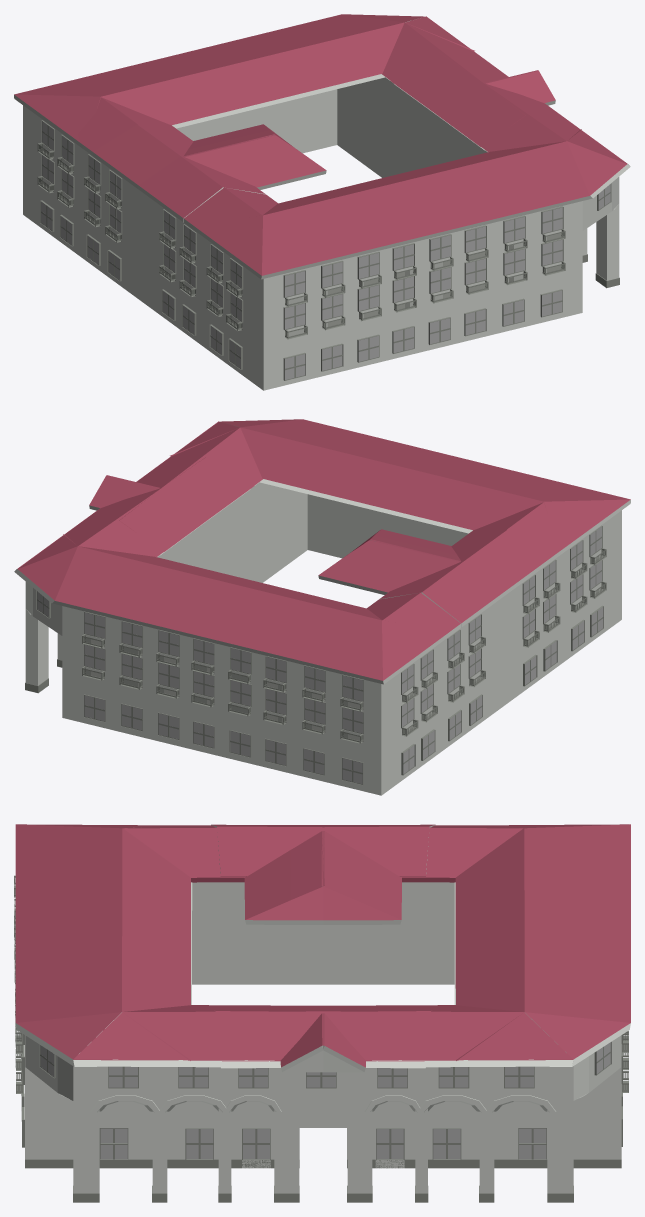
The model's file is cthm.fbx.
3 views of the same model, one above another, from view 1: azimuth 30°, elevation 25°; view 2: azimuth 150°, elevation 25°; view 3: azimuth 270°, elevation 25° (orthographic). The views are drawn at different scales.
Visible parts, largest first — view 1: Cube, Cube.063, Cube.058, Cube.061, Cube.064, Cube.062, Cube.057, Cube.059, Cube.060, Cube.066, Cube.071, Cube.072 (+13 smaller); view 2: Cube, Cube.049, Cube.050, Cube.047, Cube.046, Cube.042, Cube.043, Cube.045, Cube.041, Cube.044, Cube.051, Cube.052 (+7 smaller); view 3: Cube, Cube.015, Cube.020, Cube.021, Cube.016, Cube.017, Cube.019, Cube.018.
Part boxes in pixels (bbox=[...]): Cube: bbox=[14, 14, 630, 390]; Cube.063: bbox=[503, 215, 527, 252]; Cube.058: bbox=[321, 260, 345, 297]; Cube.061: bbox=[429, 234, 453, 271]; Cube.064: bbox=[541, 206, 565, 243]; Cube.062: bbox=[464, 225, 488, 262]; Cube.057: bbox=[283, 270, 307, 306]; Cube.059: bbox=[357, 251, 381, 288]; Cube.060: bbox=[392, 243, 416, 280]; Cube.066: bbox=[321, 293, 345, 330]; Cube.071: bbox=[503, 248, 527, 284]; Cube.072: bbox=[541, 239, 565, 275]; Cube: bbox=[14, 419, 630, 795]; Cube.049: bbox=[119, 621, 143, 657]; Cube.050: bbox=[119, 653, 143, 689]; Cube.047: bbox=[340, 674, 363, 711]; Cube.046: bbox=[302, 665, 325, 702]; Cube.042: bbox=[156, 630, 179, 666]; Cube.043: bbox=[191, 638, 214, 675]; Cube.045: bbox=[263, 656, 286, 692]; Cube.041: bbox=[82, 611, 105, 648]; Cube.044: bbox=[228, 647, 251, 684]; Cube.051: bbox=[156, 662, 179, 698]; Cube.052: bbox=[191, 671, 214, 707]; Cube: bbox=[15, 824, 630, 1193]; Cube.015: bbox=[108, 1066, 138, 1088]; Cube.020: bbox=[438, 1067, 469, 1088]; Cube.021: bbox=[504, 1066, 534, 1088]; Cube.016: bbox=[178, 1067, 208, 1088]; Cube.017: bbox=[238, 1068, 268, 1088]; Cube.019: bbox=[377, 1068, 407, 1088]; Cube.018: bbox=[306, 1072, 336, 1088].
Bounding box in the file's own units: 3760 × 1236 × 4038.
